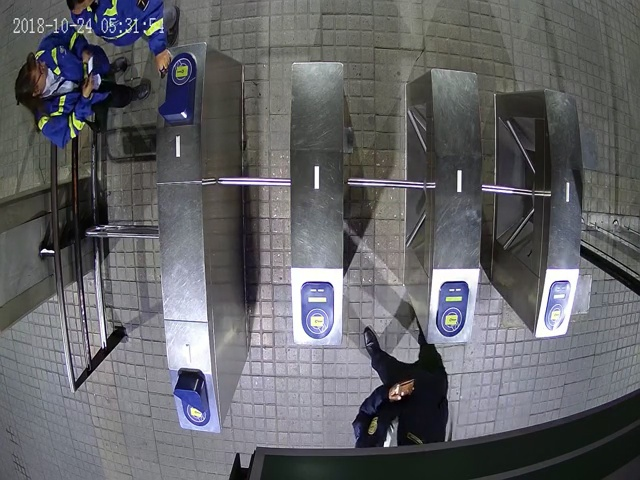Chaleco_azul: (13, 27, 152, 145), (63, 1, 177, 76)
